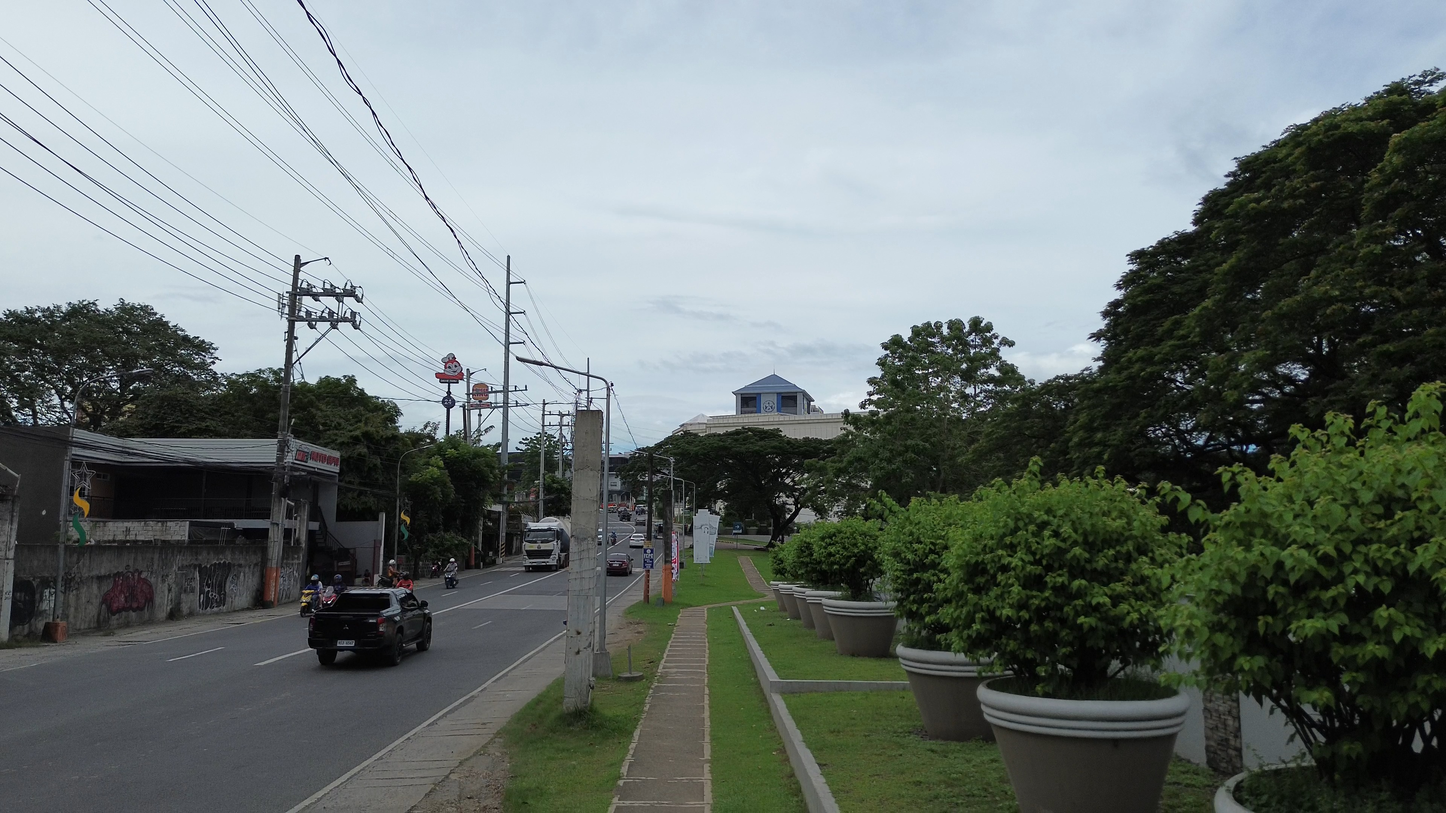motorcycle: (299, 588, 319, 616), (444, 572, 458, 589)
vehicle: (308, 588, 432, 665), (523, 518, 570, 570), (300, 587, 320, 616), (607, 553, 632, 575), (628, 533, 645, 548), (618, 508, 631, 521)
